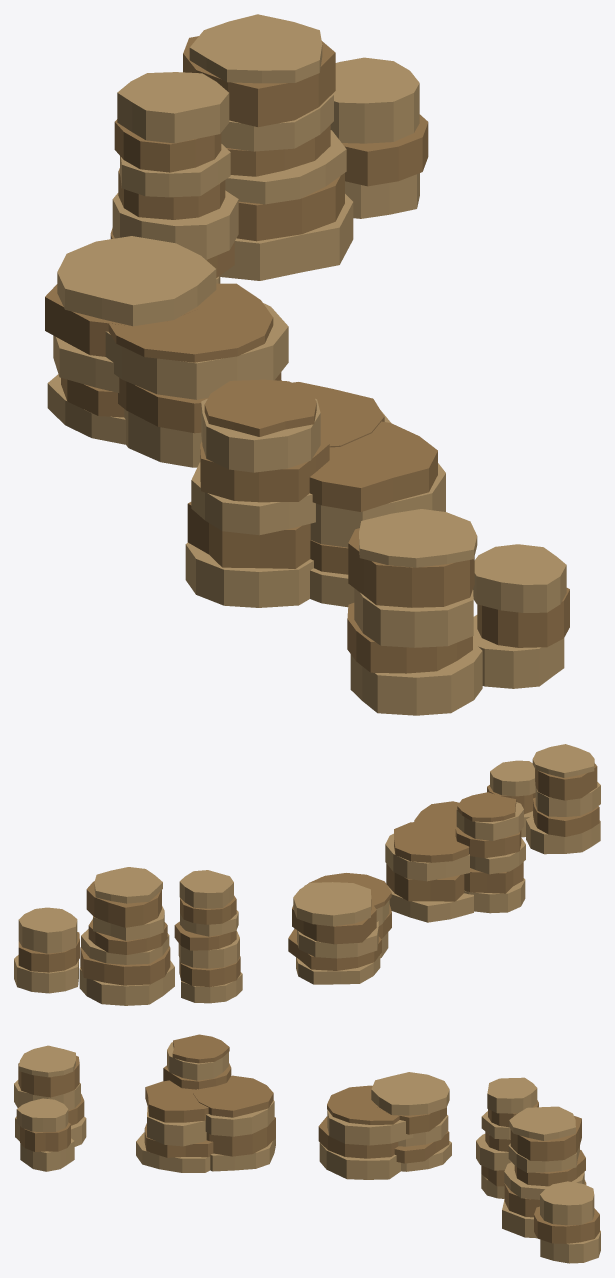
File: MesasE.fbx
The picture shows the model from 3 angles, top to bottom: view 1: azimuth 30°, elevation 25°; view 2: azimuth 150°, elevation 25°; view 3: azimuth 270°, elevation 25°; orthographic projection. The views are drawn at different scales.
Visible parts, largest first — view 1: MesaE0_0.001; view 2: MesaE0_0.001; view 3: MesaE0_0.001.
Boxes of the visible parts, box(x1,y1,x2,y2) form: MesaE0_0.001: box(45, 14, 569, 715); MesaE0_0.001: box(14, 744, 600, 1005); MesaE0_0.001: box(14, 1034, 600, 1263).
Size of the model in its own units: 25884 by 8596 by 44733.
